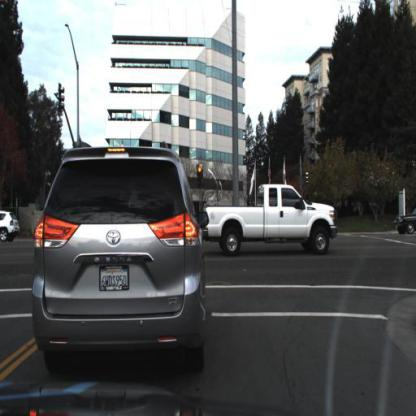car: (32, 140, 210, 374), (202, 182, 338, 257), (1, 211, 22, 245), (397, 203, 416, 239)
trafficLight-Red: (196, 163, 204, 190)
